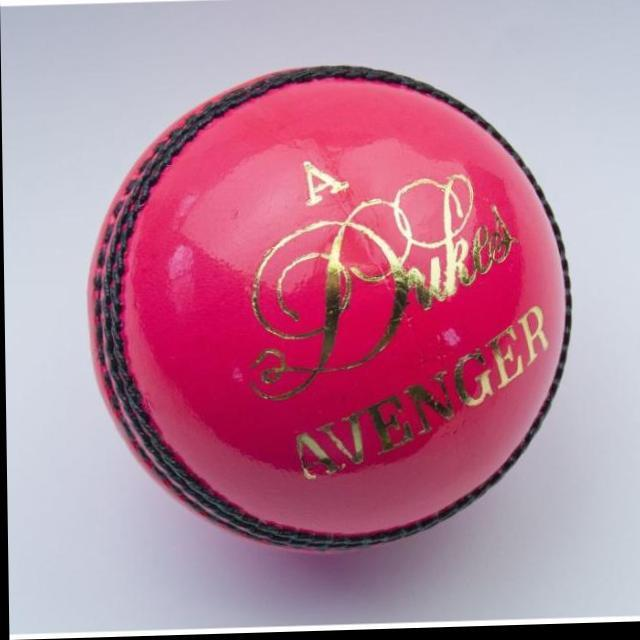cricket ball: (85, 68, 571, 556)
